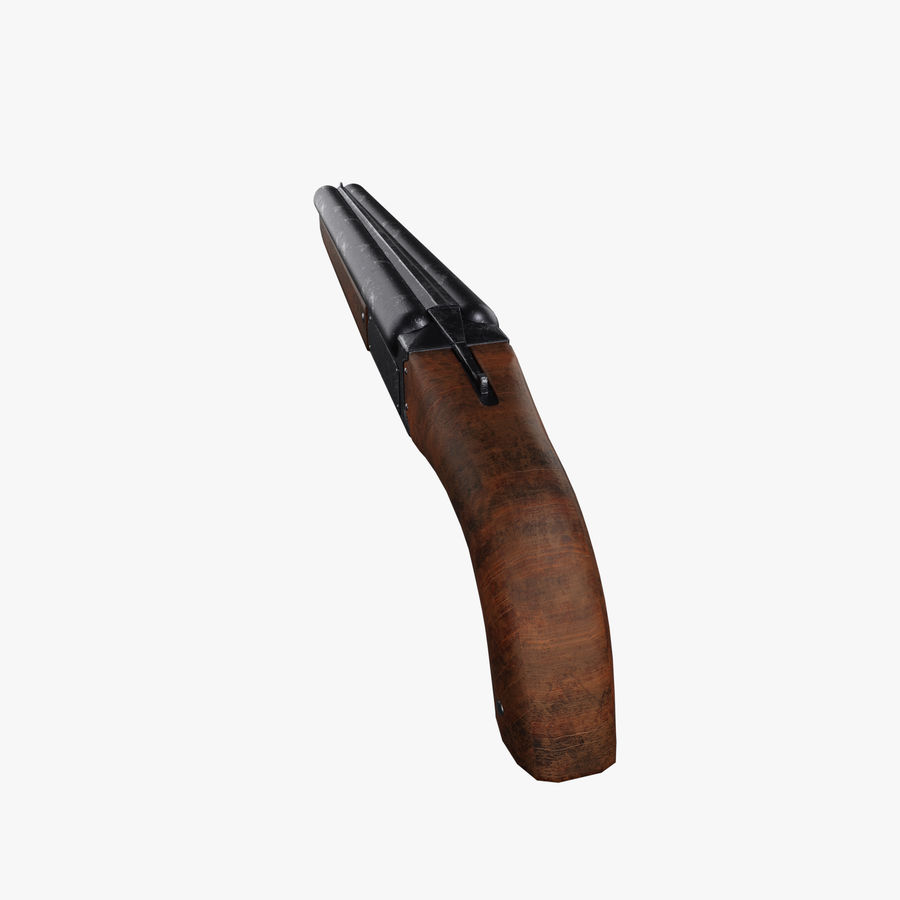weapon: (313, 182, 615, 781)
